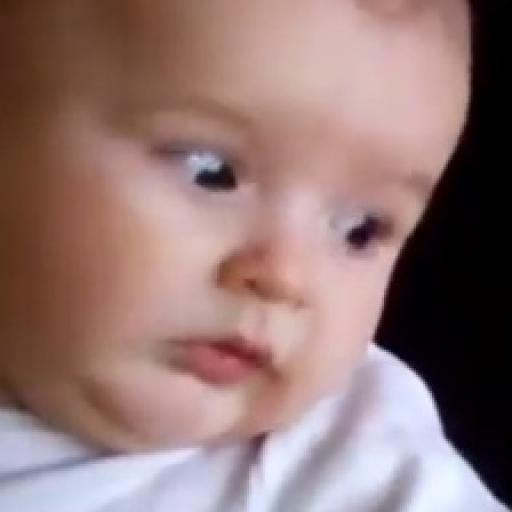Autism: (12, 8, 476, 452)
